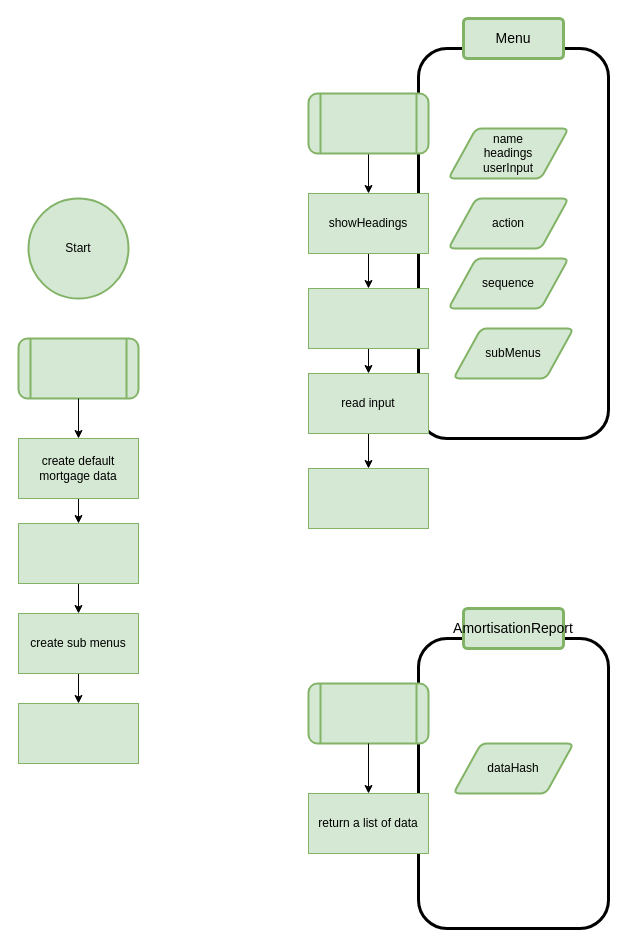
The diagram is 627 pixels wide and 947 high, and some of its shapes have lost their labels. The shapes that lost their labels are listed below. From the top down, each one's box as (x1, y1, x2, y2) in pixels, then its label:
(307, 92, 429, 154): run
(308, 288, 428, 348): list sub menus
(17, 337, 139, 399): main
(308, 468, 428, 528): run each action sequences
(18, 522, 138, 584): create main menu
(18, 702, 138, 764): run menu MortgageReport
(307, 682, 429, 744): execute
